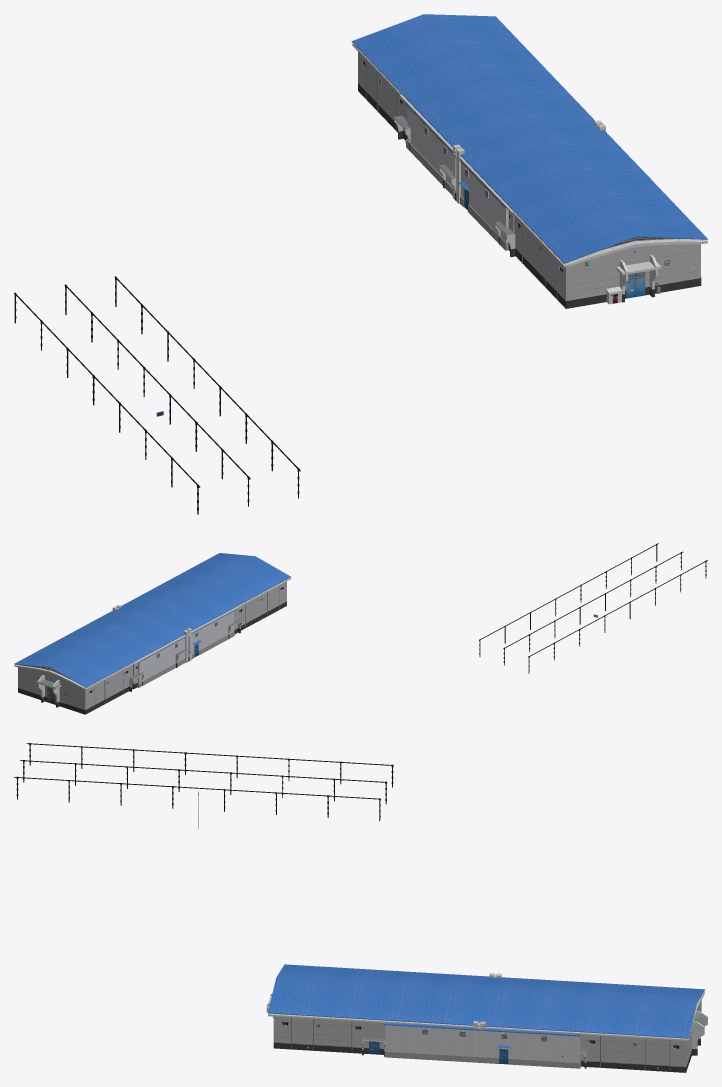
The model's file is dancang2.obj.
3 views of the same model, one above another, from view 1: azimuth 30°, elevation 25°; view 2: azimuth 150°, elevation 25°; view 3: azimuth 270°, elevation 25° (orthographic). The views are drawn at different scales.
Visible parts, largest first — view 1: Line005, Line006, Line008, fwenduguan, Line007; view 2: Line005, Line006, Line008, fwenduguan, Line007; view 3: Line005, Line008, fwenduguan, Line006.
Boxes of the visible parts, left/top/right/bottom form: Line005: left=351, top=14, right=707, bottom=308; Line006: left=352, top=44, right=704, bottom=308; Line008: left=405, top=102, right=650, bottom=250; fwenduguan: left=14, top=276, right=300, bottom=514; Line007: left=400, top=95, right=514, bottom=250; Line005: left=14, top=553, right=290, bottom=703; Line006: left=14, top=578, right=291, bottom=714; Line008: left=137, top=610, right=235, bottom=687; fwenduguan: left=479, top=543, right=707, bottom=673; Line007: left=133, top=604, right=241, bottom=689; Line005: left=266, top=964, right=707, bottom=1072; Line008: left=383, top=1022, right=580, bottom=1068; fwenduguan: left=14, top=743, right=393, bottom=820; Line006: left=270, top=974, right=707, bottom=1072.
Bounding box in the file's own units: 133 × 14.2 × 144.
48 materials, 39 textured.
